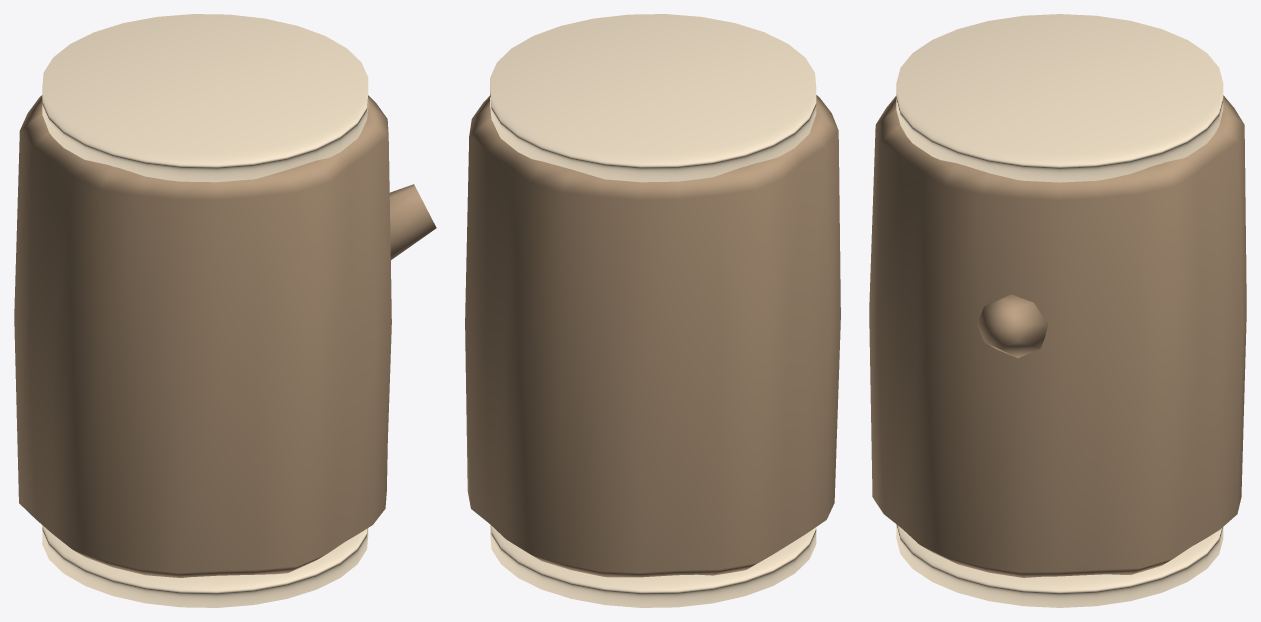
The model's file is LogJamLog.glb.
The picture shows the model from 3 angles, left to right: view 1: azimuth 30°, elevation 25°; view 2: azimuth 150°, elevation 25°; view 3: azimuth 270°, elevation 25°; orthographic projection.
Parts seen in each view (by area): view 1: Bark, Wood; view 2: Bark, Wood; view 3: Bark, Wood.
Boxes of the visible parts, x1,y1,x2,y2 form: Bark: (14,95,436,577); Wood: (42,14,368,607); Bark: (465,95,840,577); Wood: (490,14,816,607); Bark: (869,95,1246,577); Wood: (896,14,1223,607).
Bounding box in the file's own units: 1.97 × 2.4 × 1.8.
